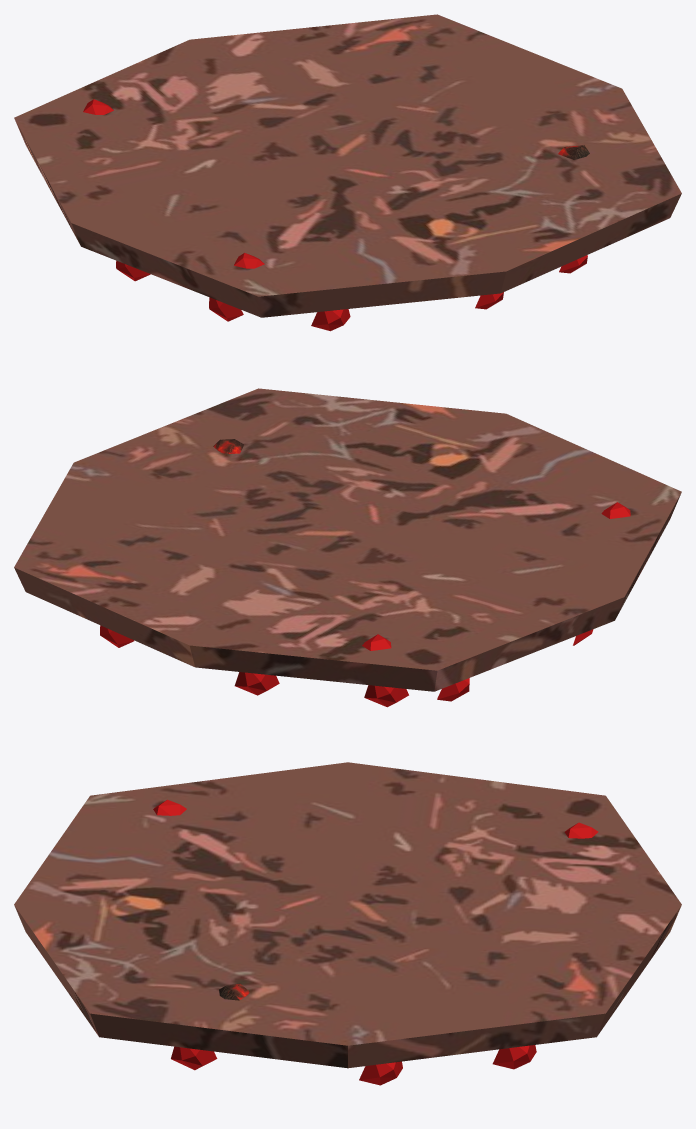
File: FireIsland.obj
The picture shows the model from 3 angles, top to bottom: view 1: azimuth 30°, elevation 25°; view 2: azimuth 150°, elevation 25°; view 3: azimuth 270°, elevation 25°; orthographic projection. The views are drawn at different scales.
Parts seen in each view (by area): view 1: Plane, Icosphere.010_Icosphere.012; view 2: Plane, Icosphere.006_Icosphere.008, Icosphere.005_Icosphere.007; view 3: Plane, Icosphere.011_Icosphere.013, Icosphere.012_Icosphere.014, Icosphere.013_Icosphere.015.
Part boxes in pixels (left/top/right/bottom): Plane: left=14, top=14, right=681, bottom=317; Icosphere.010_Icosphere.012: left=311, top=309, right=350, bottom=331; Plane: left=14, top=388, right=681, bottom=691; Icosphere.006_Icosphere.008: left=234, top=672, right=279, bottom=695; Icosphere.005_Icosphere.007: left=364, top=685, right=408, bottom=707; Plane: left=14, top=762, right=681, bottom=1068; Icosphere.011_Icosphere.013: left=492, top=1045, right=536, bottom=1069; Icosphere.012_Icosphere.014: left=359, top=1061, right=402, bottom=1085; Icosphere.013_Icosphere.015: left=171, top=1046, right=217, bottom=1070.
Size of the model in its own units: 2.6 by 0.5403 by 2.59.
